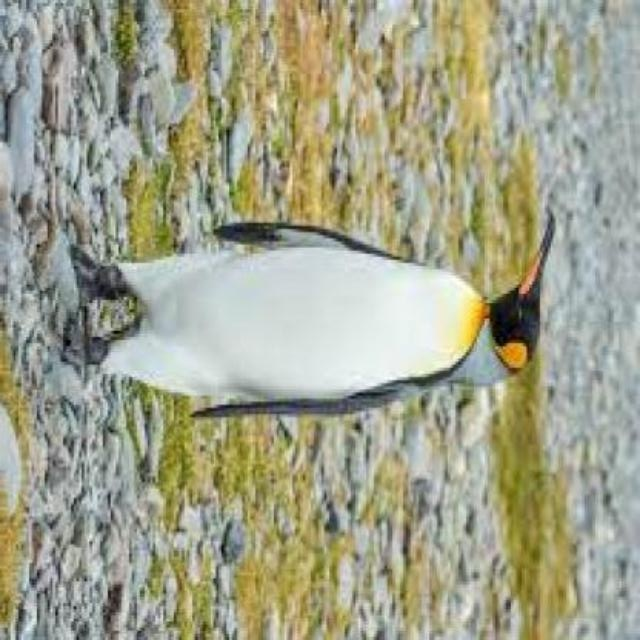penguin: (59, 204, 557, 424)
